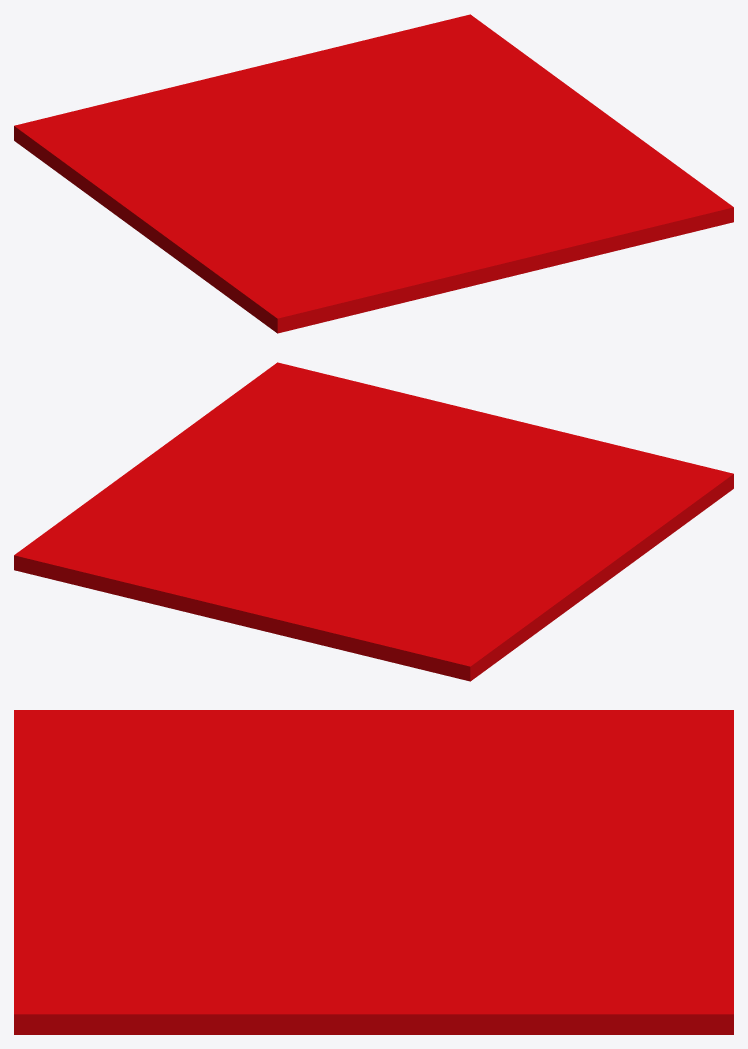
The model's file is LinkFBX.fbx.
3 views of the same model, one above another, from view 1: azimuth 30°, elevation 25°; view 2: azimuth 150°, elevation 25°; view 3: azimuth 270°, elevation 25° (orthographic). The views are drawn at different scales.
Parts seen in each view (by area): view 1: OBS.241, OBS.251, OBS.247, OBS.245, OBS.249, OBS.250, OBS.242, OBS.255, OBS.248, OBS.246, OBS.244, OBS.254 (+19 smaller); view 2: OBS.001, OBS.011, OBS.007, OBS.005, OBS.009, OBS.010, OBS.002, OBS.015, OBS.008, OBS.006, OBS.004, OBS.014 (+19 smaller); view 3: OBS.240, OBS.224, OBS.208, OBS.192, OBS.176, OBS.160, OBS.144, OBS.128, OBS.112, OBS.096, OBS.080, OBS.064 (+244 smaller).
Boxes of the visible parts, box(x1,y1,x2,y2) form: OBS.241: box(261, 299, 305, 333); OBS.251: box(547, 230, 591, 263); OBS.247: box(432, 258, 477, 291); OBS.245: box(375, 272, 420, 305); OBS.249: box(490, 244, 534, 277); OBS.250: box(518, 237, 562, 270); OBS.242: box(290, 293, 334, 326); OBS.255: box(660, 202, 705, 235); OBS.248: box(461, 251, 505, 284); OBS.246: box(404, 265, 448, 298); OBS.244: box(347, 279, 391, 312); OBS.254: box(632, 209, 676, 242); OBS.001: box(442, 647, 486, 681); OBS.011: box(156, 578, 200, 611); OBS.007: box(270, 606, 315, 639); OBS.005: box(327, 620, 372, 653); OBS.009: box(213, 592, 257, 625); OBS.010: box(185, 585, 229, 618); OBS.002: box(413, 641, 457, 674); OBS.015: box(42, 550, 87, 583); OBS.008: box(242, 599, 286, 632); OBS.006: box(299, 613, 343, 646); OBS.004: box(356, 627, 400, 660); OBS.014: box(71, 557, 115, 590); OBS.240: box(59, 995, 103, 1034); OBS.224: box(104, 995, 148, 1034); OBS.208: box(149, 995, 193, 1034); OBS.192: box(194, 995, 238, 1034); OBS.176: box(239, 995, 283, 1034); OBS.160: box(284, 995, 328, 1034); OBS.144: box(329, 995, 373, 1034); OBS.128: box(374, 995, 418, 1034); OBS.112: box(419, 995, 463, 1034); OBS.096: box(464, 995, 508, 1034); OBS.080: box(509, 995, 553, 1034); OBS.064: box(554, 995, 598, 1034).
Size of the model in its own units: 3200 by 100 by 3200.
